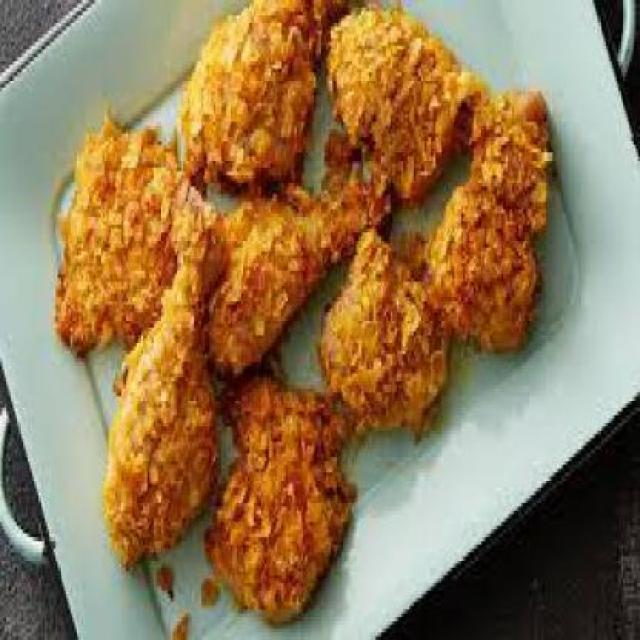Frango: (60, 0, 551, 629)
